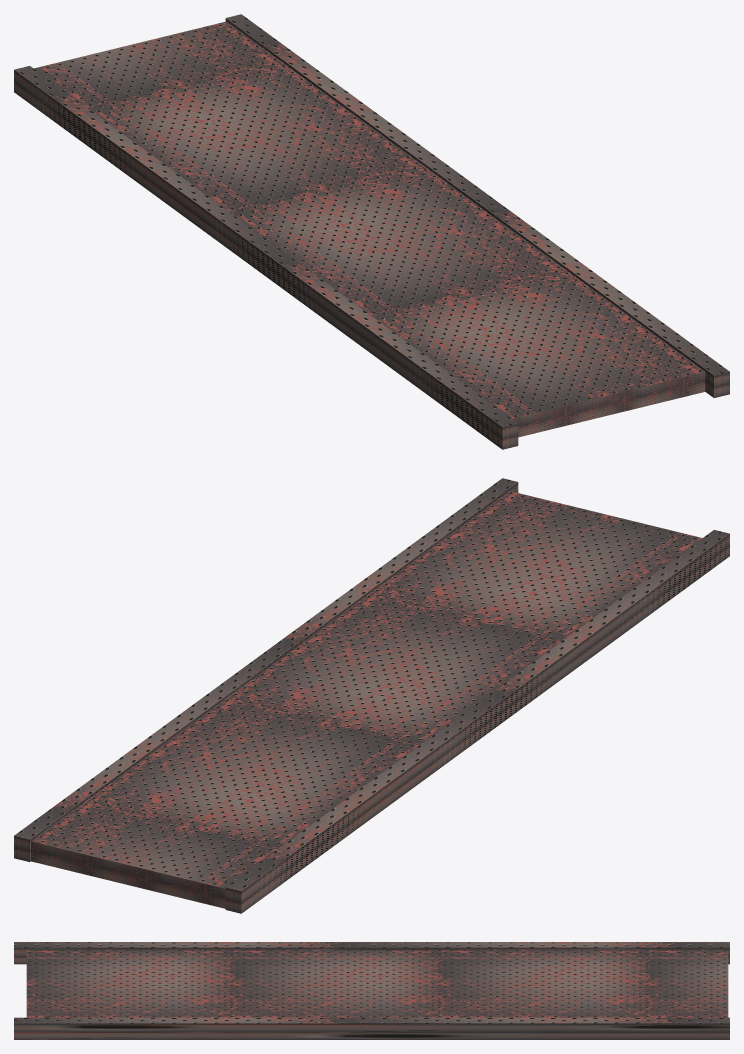
The model's file is tieban01.FBX.
3 renders of one model, top to bottom at view 1: azimuth 30°, elevation 25°; view 2: azimuth 150°, elevation 25°; view 3: azimuth 270°, elevation 25°, orthographic. The views are drawn at different scales.
Visible parts, largest first — view 1: Box003; view 2: Box003; view 3: Box003.
Boxes of the visible parts, <box> form: Box003: <box>14,14,729,449</box>; Box003: <box>14,478,729,913</box>; Box003: <box>14,942,729,1039</box>.
Size of the model in its own units: 14.34 by 1.36 by 53.36.
